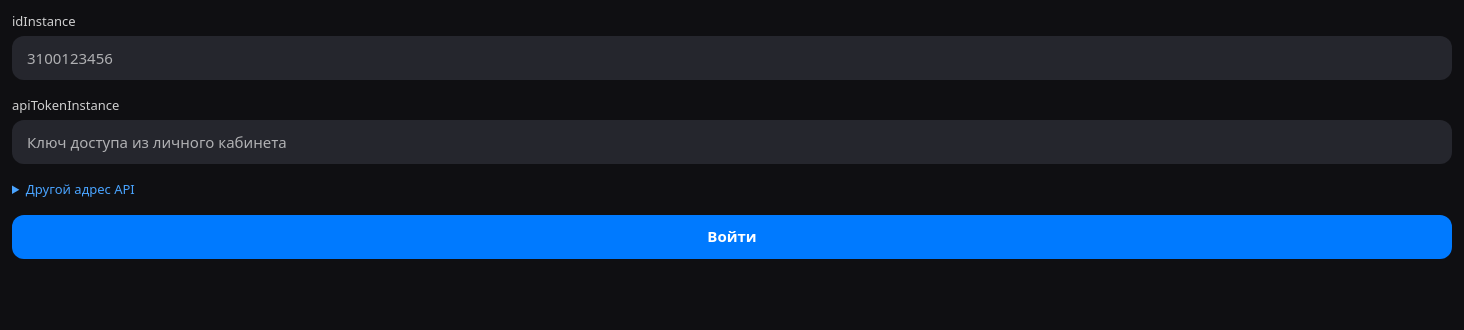
it: LoginForm › explains a wrong token
The width and height of the screenshot is (1464, 330).
Click the field labelled "idInstance" at (732, 58), box [12,36,1452,80]
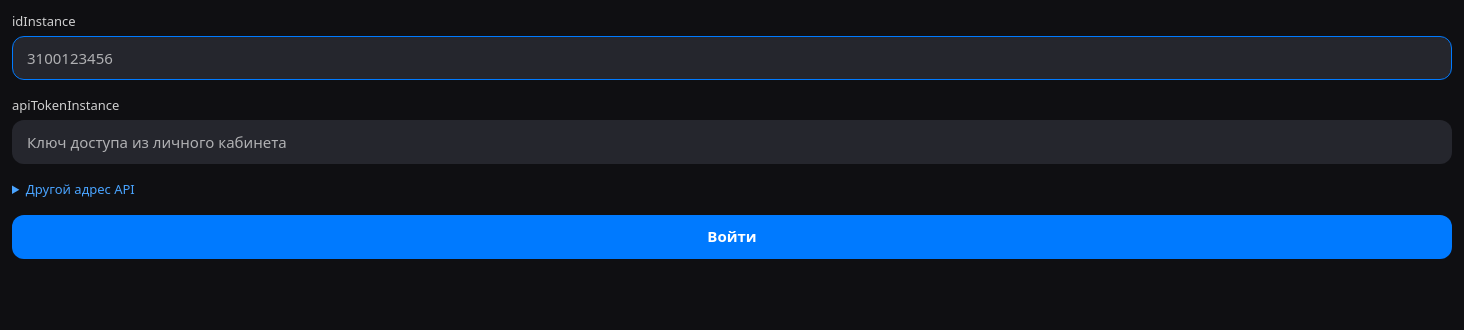
Type keys "3100000001"
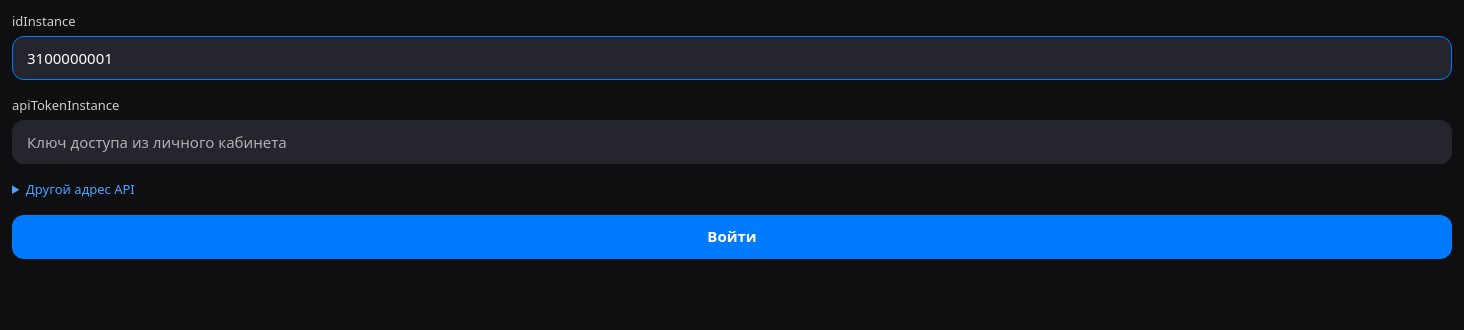
Click the password field labelled "apiTokenInstance" at (732, 142), box [12,120,1452,164]
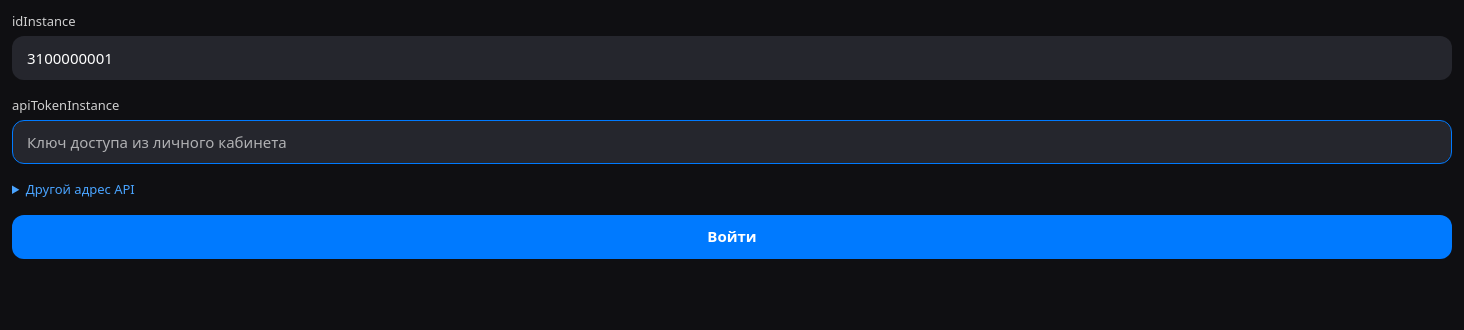
Type keys "d75b3a66374942c5b3c019c698abc2067e151558acbd412345"
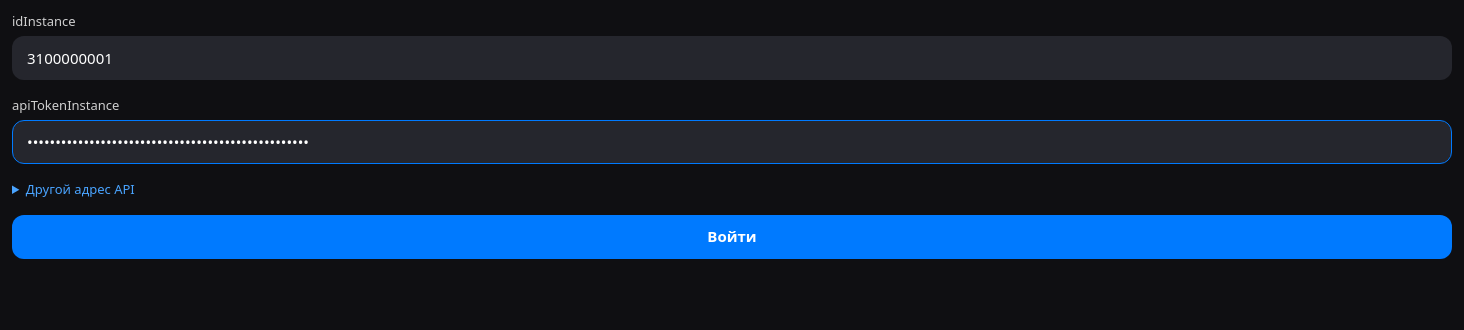
Click the button "Войти" at (732, 237), box [12,215,1452,259]
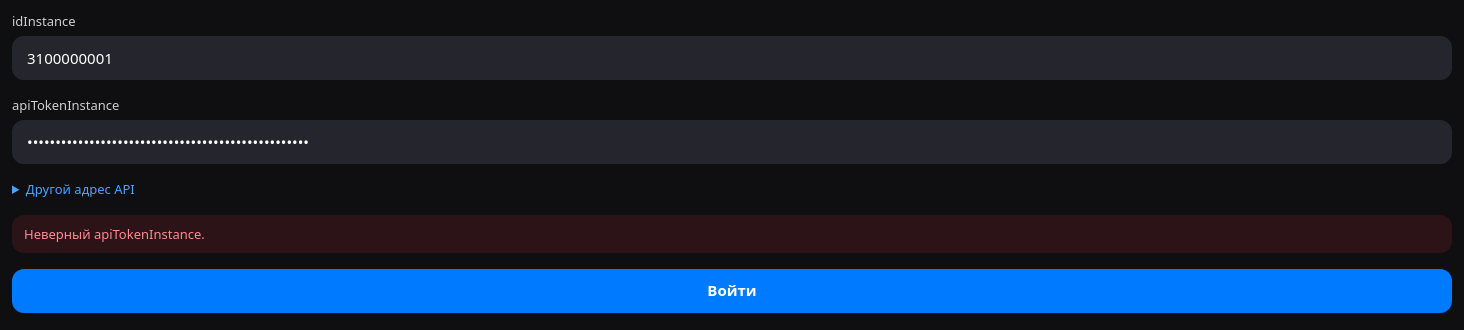
Expected: the button "Войти" is enabled, [12,269,1452,313]
Expected: the message reads "Неверный apiTokenInstance.", [24,225,205,243]
